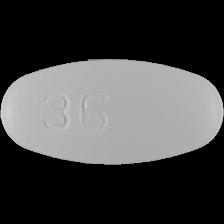33261-077: (0, 0, 224, 224)
